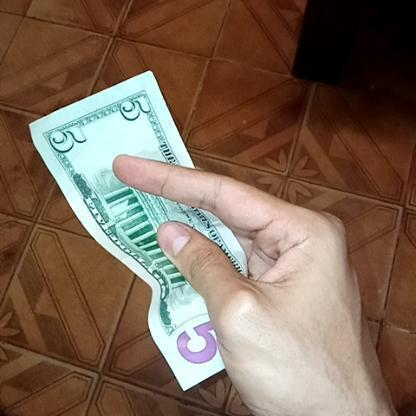five-back: (27, 69, 254, 396)
